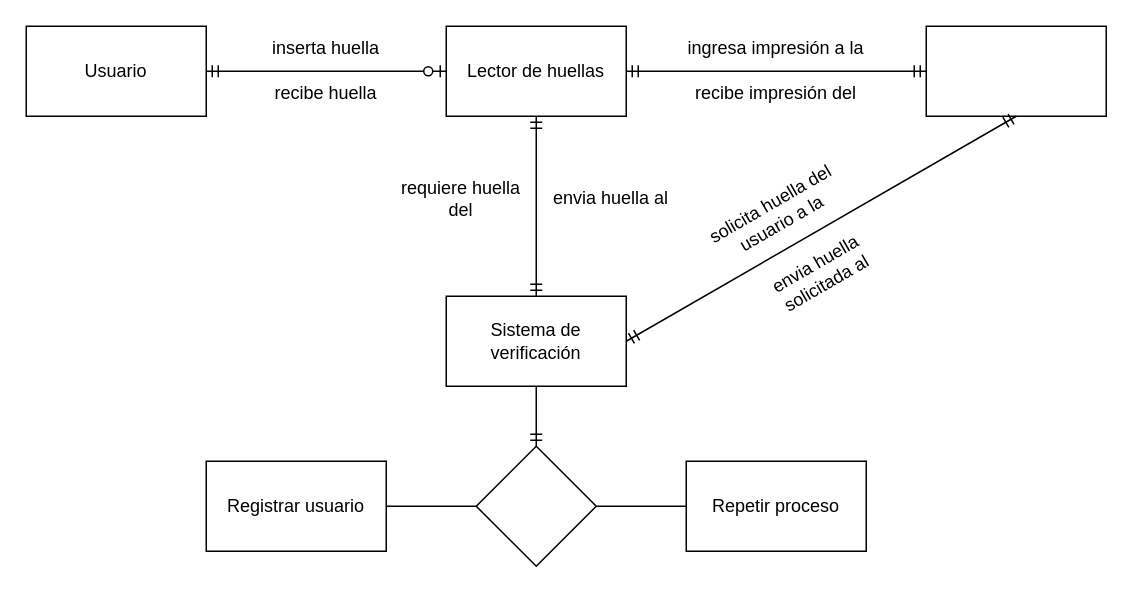
Image size: 1133x593. Some labels were removed from this diagram. Each missing label, with the centre of its shape:
"Base de datos" belongs at point 1015,70.
"Coincidencia" belongs at point 535,505.
